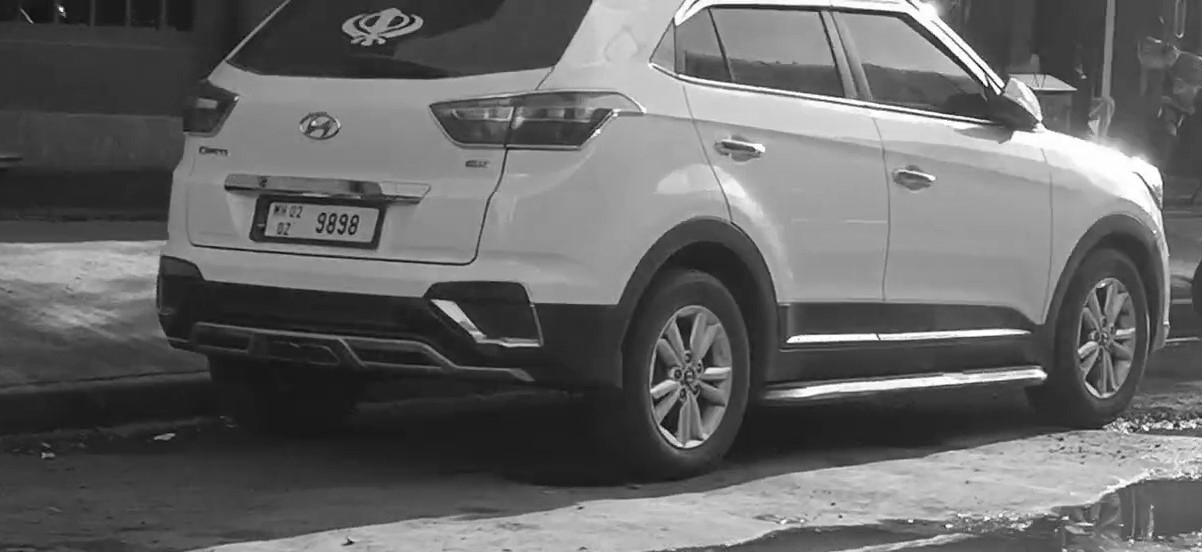number_plate: (260, 199, 378, 251)
